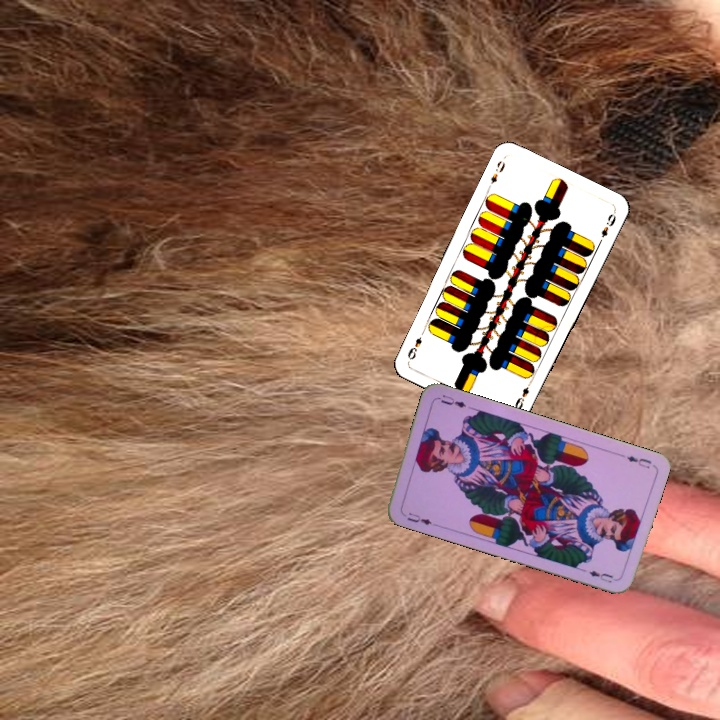E9: (484, 156, 508, 192), (511, 377, 535, 412)
EU: (399, 508, 438, 528), (623, 451, 654, 471)
